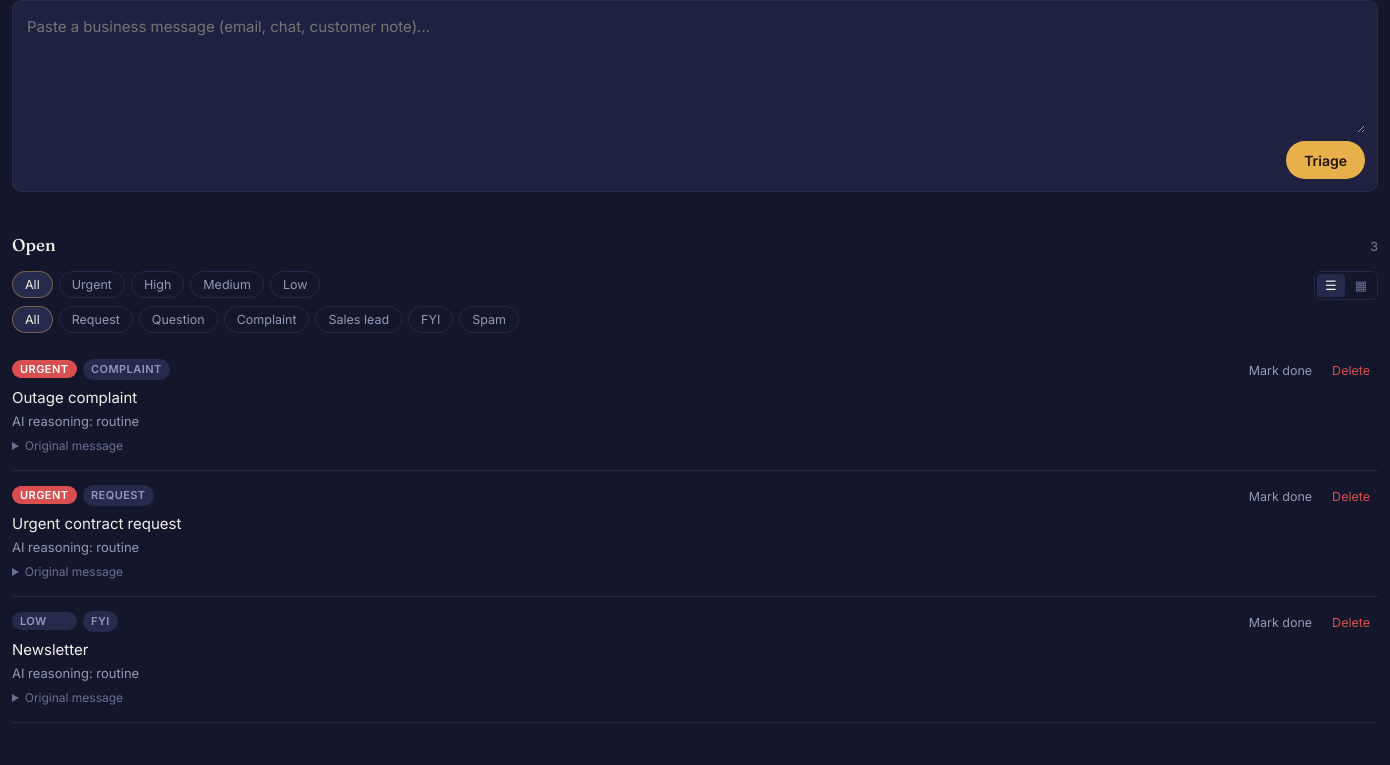
Test: BusinessTab › filters › applies to the Done section and shows an empty note when nothing matches
Expected: the text "Newsletter" is shown, [12, 640, 88, 659]
What coordinates should you click on to do the following:
click the button "FYI"
I would click on:
 (431, 319)
Its box is [408, 306, 453, 333].
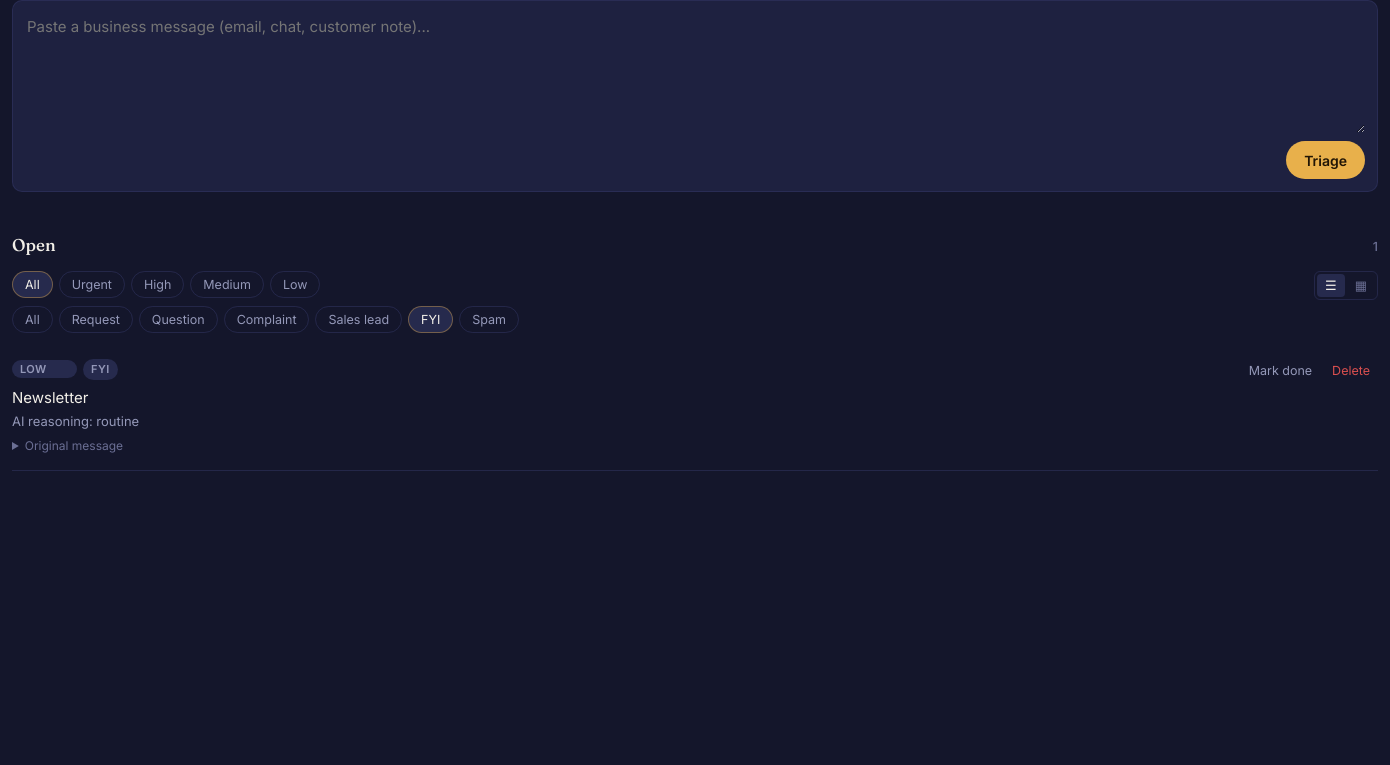
Expected: the heading "Done (" is not shown
What coordinates should you click on to do the following:
click the button "High"
I would click on:
 (158, 284)
Its box is [131, 271, 184, 298].
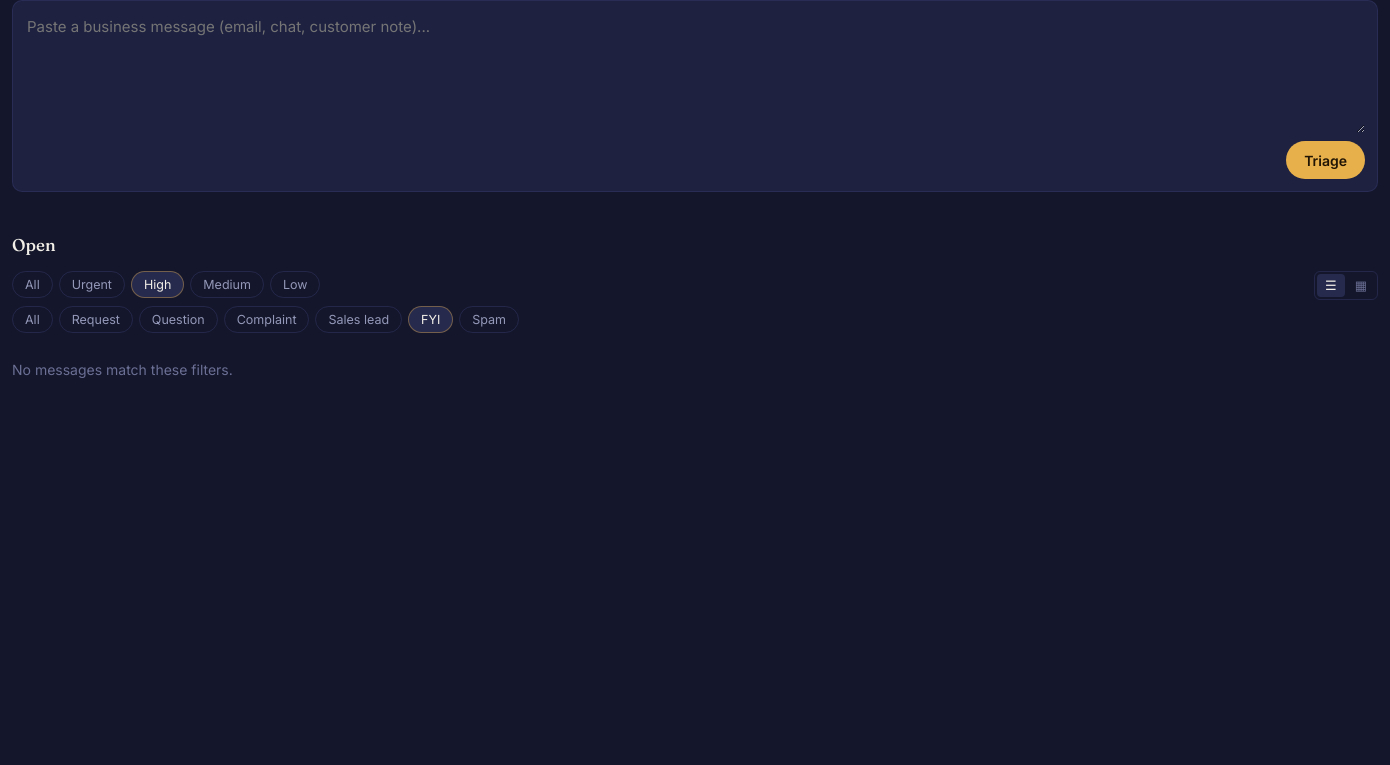
Now the text "No messages match these filters." is shown, box [12, 361, 233, 378]
Now no elements with test id "message-summary" are shown
